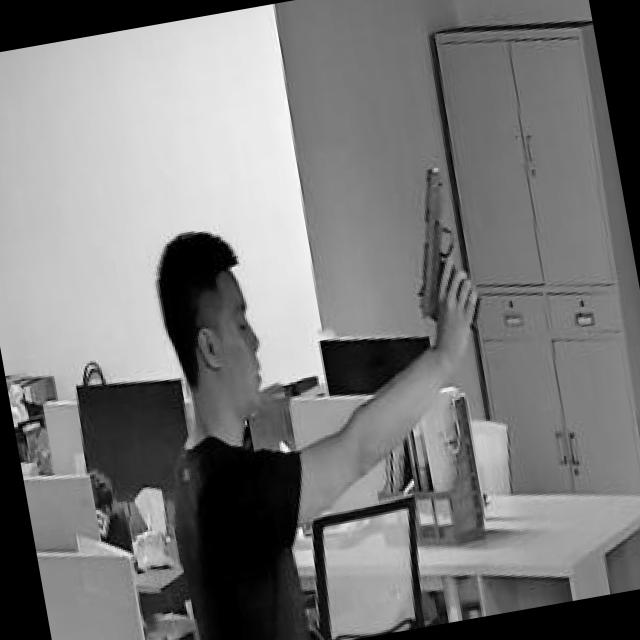Guns: (374, 143, 508, 344)
